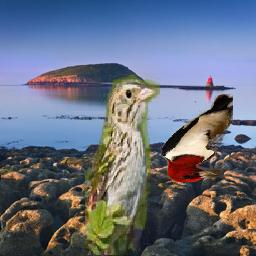Sparrow: (86, 71, 161, 255)
Woodpecker: (161, 94, 234, 182)
